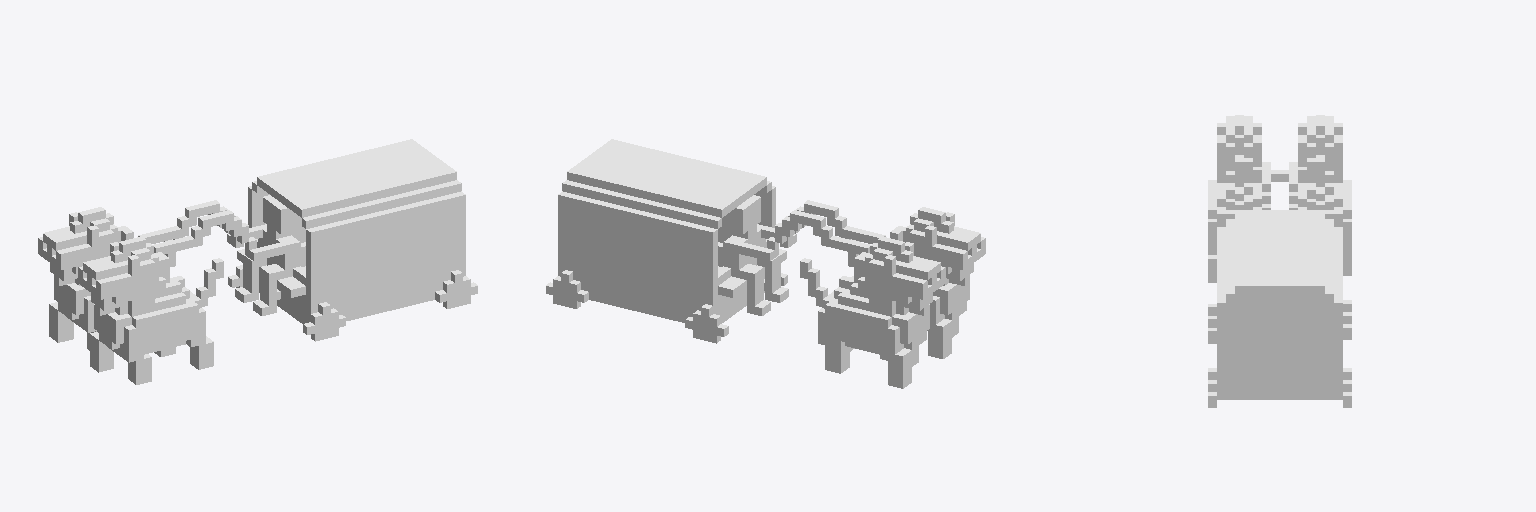
Rendered from animationcarriage1.obj.
3 renders of one model, left to right at view 1: azimuth 30°, elevation 25°; view 2: azimuth 150°, elevation 25°; view 3: azimuth 270°, elevation 25°, orthographic.
Parts seen in each view (by area): view 1: animationcarriage1; view 2: animationcarriage1; view 3: animationcarriage1.
Boxes of the visible parts, x1=… form: animationcarriage1: x1=38, y1=139, x2=477, y2=384; animationcarriage1: x1=546, y1=139, x2=985, y2=388; animationcarriage1: x1=1208, y1=115, x2=1351, y2=407.
Bounding box in the file's own units: 48 × 16 × 16.